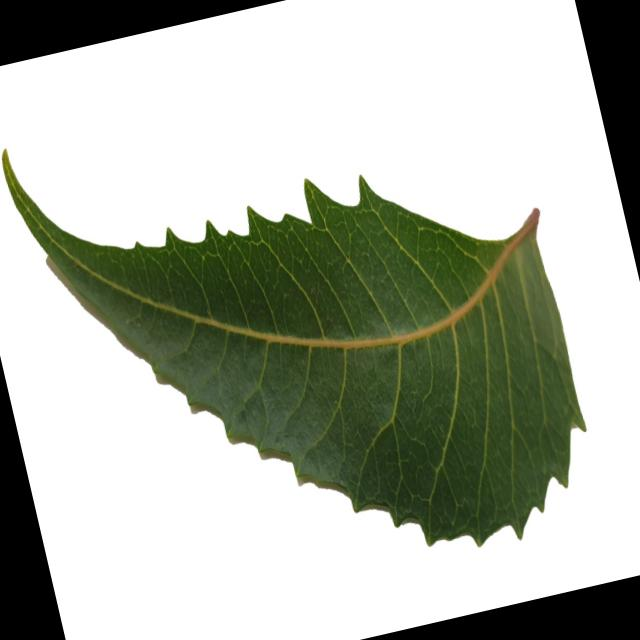Medicinal-Neem: (0, 30, 609, 632)
